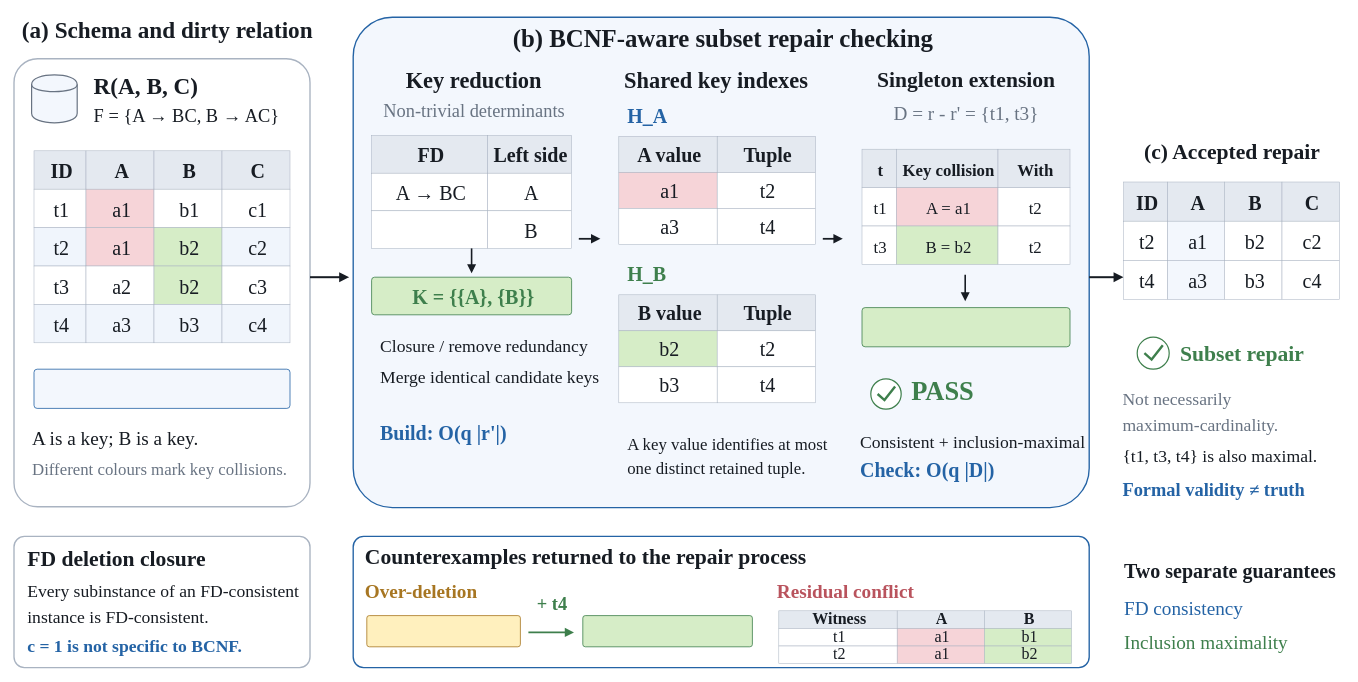
This 1358x682 diagram has some shape labels left out. Each missing label, with the box of its shape:
All deleted tuples blocked: (861, 307, 1070, 347)
B → AC: (371, 210, 488, 248)
r' = {t2, t4}: (33, 368, 290, 408)
S = {t2}: (366, 615, 520, 647)
S' = {t2,t4}: (582, 615, 752, 647)
